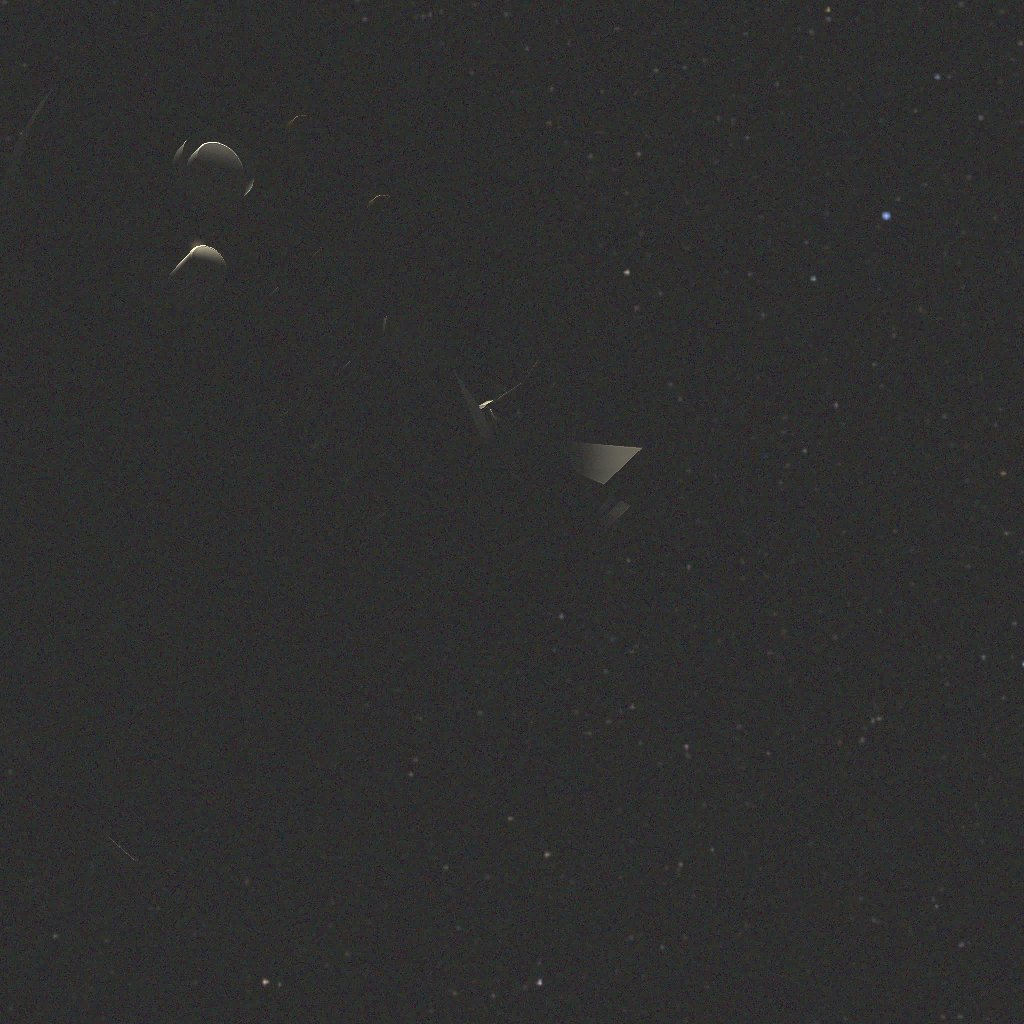proba_3_ocs: (0, 0, 643, 873)
